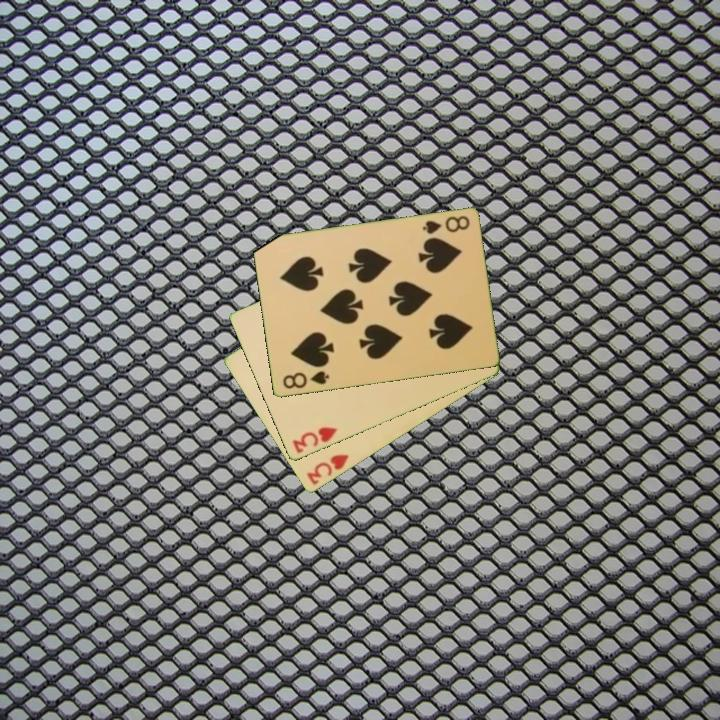3h: (303, 451, 352, 488), (289, 423, 340, 456)
8s: (418, 212, 472, 238), (279, 368, 332, 392)
